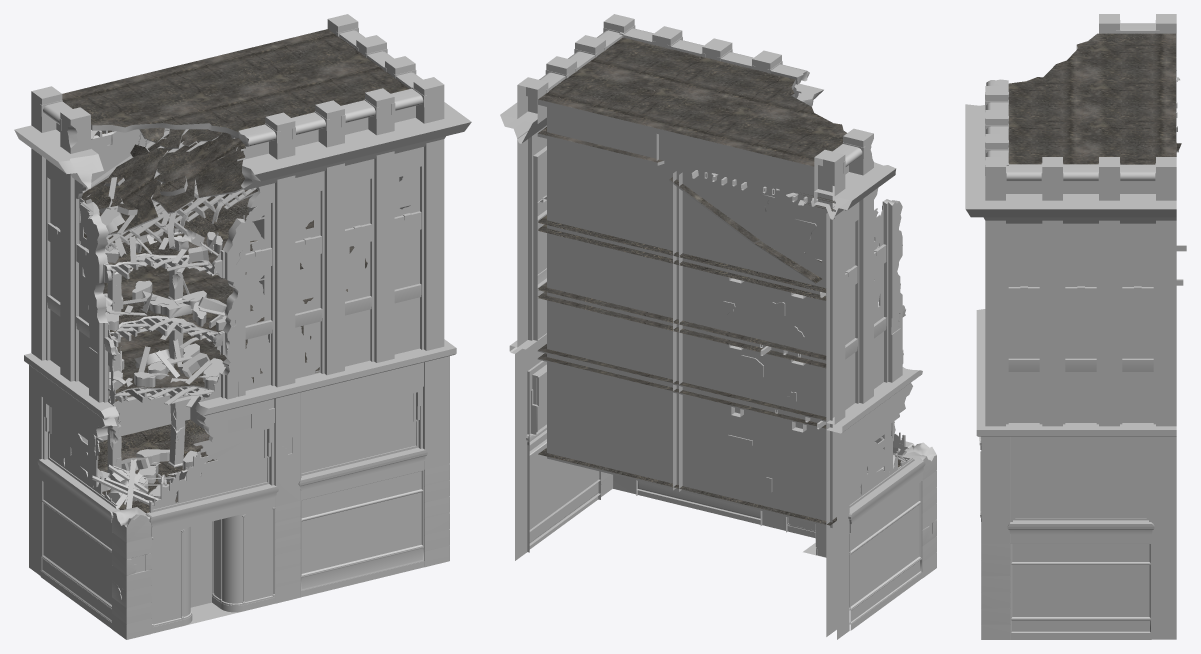
The model's file is builingnew5.fbx.
3 renders of one model, left to right at view 1: azimuth 30°, elevation 25°; view 2: azimuth 150°, elevation 25°; view 3: azimuth 270°, elevation 25°, orthographic.
Visible parts, largest first — view 1: LODGroup_1_MainMesh_1_SubMesh_3, LODGroup_1_MainMesh_1_SubMesh_2, LODGroup_1_MainMesh_1_SubMesh_1, LODGroup_1_MainMesh_1_SubMesh_4, LODGroup_1_MainMesh_1_SubMesh_5, LODGroup_1_MainMesh_1_SubMesh_7, LODGroup_1_MainMesh_1_SubMesh_6; view 2: LODGroup_1_MainMesh_1_SubMesh_3, LODGroup_1_MainMesh_1_SubMesh_1, LODGroup_1_MainMesh_1_SubMesh_4, LODGroup_1_MainMesh_1_SubMesh_2, LODGroup_1_MainMesh_1_SubMesh_7, LODGroup_1_MainMesh_1_SubMesh_6, LODGroup_1_MainMesh_1_SubMesh_5; view 3: LODGroup_1_MainMesh_1_SubMesh_3, LODGroup_1_MainMesh_1_SubMesh_2, LODGroup_1_MainMesh_1_SubMesh_4, LODGroup_1_MainMesh_1_SubMesh_1, LODGroup_1_MainMesh_1_SubMesh_7, LODGroup_1_MainMesh_1_SubMesh_6.
Boxes of the visible parts, x1,y1,x2,y2 form: LODGroup_1_MainMesh_1_SubMesh_3: [29, 128, 449, 639]; LODGroup_1_MainMesh_1_SubMesh_2: [37, 106, 427, 527]; LODGroup_1_MainMesh_1_SubMesh_1: [62, 29, 409, 513]; LODGroup_1_MainMesh_1_SubMesh_4: [14, 14, 471, 467]; LODGroup_1_MainMesh_1_SubMesh_5: [58, 123, 319, 599]; LODGroup_1_MainMesh_1_SubMesh_7: [43, 471, 421, 624]; LODGroup_1_MainMesh_1_SubMesh_6: [40, 130, 424, 633]; LODGroup_1_MainMesh_1_SubMesh_3: [515, 107, 936, 639]; LODGroup_1_MainMesh_1_SubMesh_1: [538, 37, 900, 525]; LODGroup_1_MainMesh_1_SubMesh_4: [500, 14, 922, 433]; LODGroup_1_MainMesh_1_SubMesh_2: [526, 86, 925, 524]; LODGroup_1_MainMesh_1_SubMesh_7: [529, 443, 919, 606]; LODGroup_1_MainMesh_1_SubMesh_6: [527, 433, 922, 630]; LODGroup_1_MainMesh_1_SubMesh_5: [537, 80, 936, 533]; LODGroup_1_MainMesh_1_SubMesh_3: [981, 71, 1176, 639]; LODGroup_1_MainMesh_1_SubMesh_2: [979, 181, 1155, 534]; LODGroup_1_MainMesh_1_SubMesh_4: [965, 14, 1176, 436]; LODGroup_1_MainMesh_1_SubMesh_1: [1008, 33, 1181, 164]; LODGroup_1_MainMesh_1_SubMesh_7: [1012, 544, 1149, 616]; LODGroup_1_MainMesh_1_SubMesh_6: [1010, 534, 1151, 639].
Size of the model in its own units: 1829 by 2368 by 1006.
